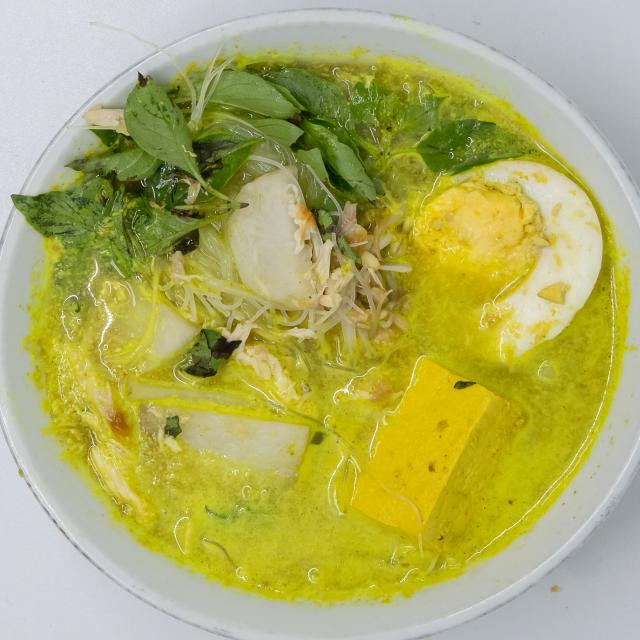Laksa-Bogor: (10, 36, 633, 604)
